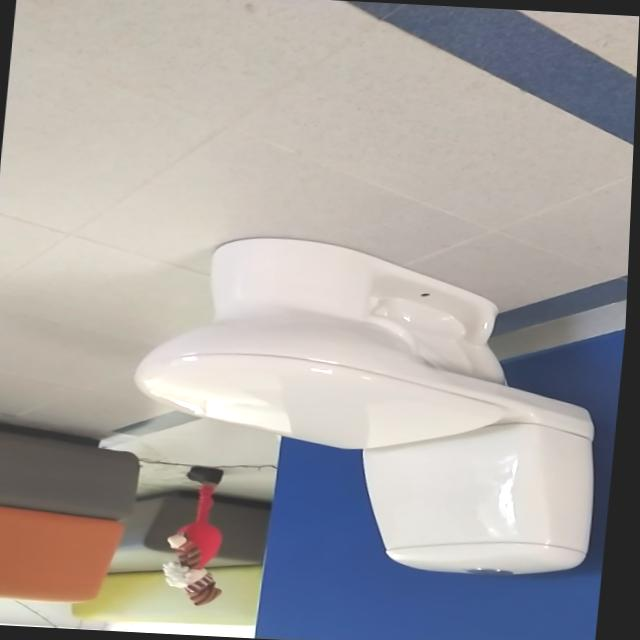toilet: (121, 230, 621, 582)
